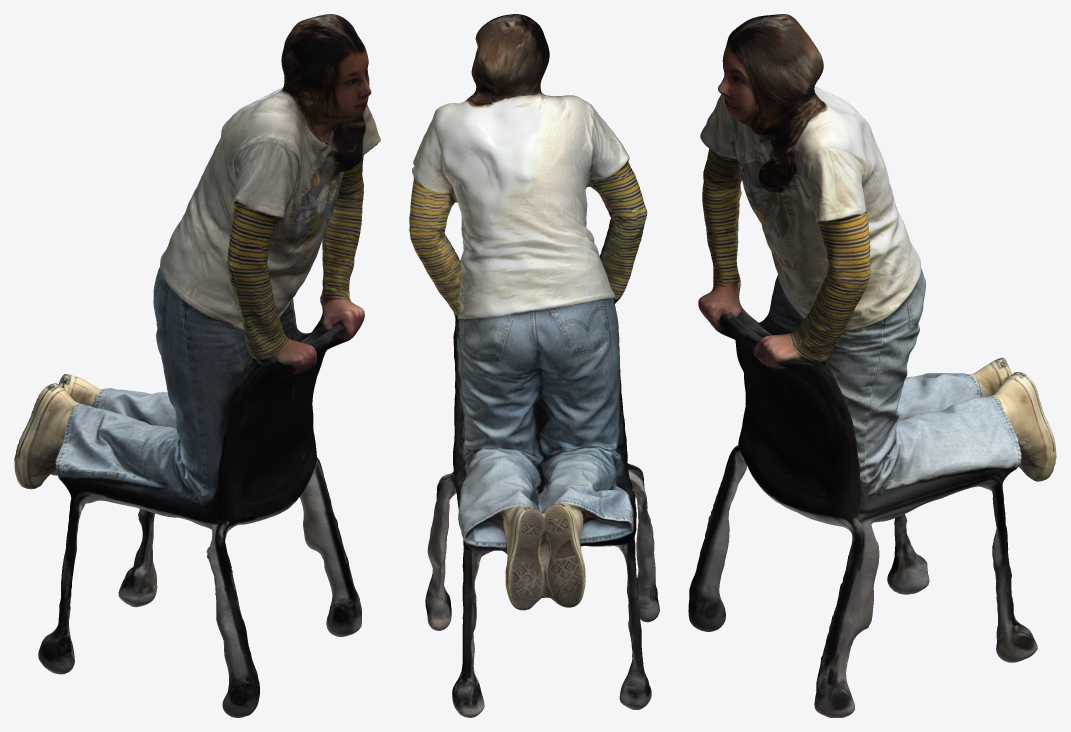
The model's file is Claire.fbx.
3 renders of one model, left to right at view 1: azimuth 30°, elevation 25°; view 2: azimuth 150°, elevation 25°; view 3: azimuth 270°, elevation 25°, orthographic. The views are drawn at different scales.
Visible parts, largest first — view 1: Object; view 2: Object; view 3: Object.
Part boxes in pixels (<box>): Object: <box>14,14,380,717</box>; Object: <box>409,14,659,717</box>; Object: <box>688,14,1056,717</box>.
Size of the model in its own units: 41.69 by 88.11 by 43.33.
